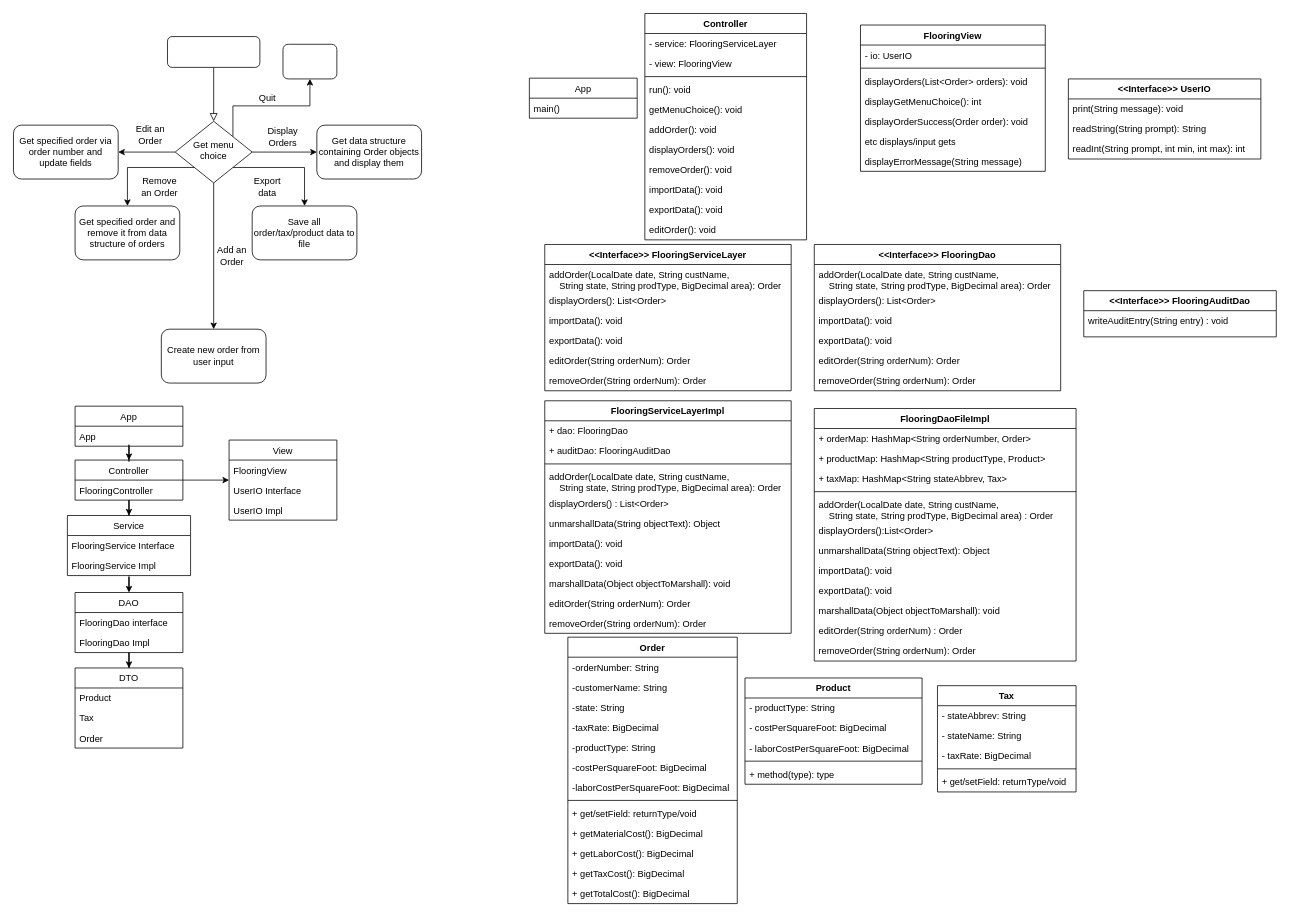
This 1290x919 diagram has some shape labels left out. Here are the shapes that lost their labels. From the top down, the centre of each, then its label:
At (213,51): "ENTRY: Display main menu to user".
At (309,61): "Quit application".
